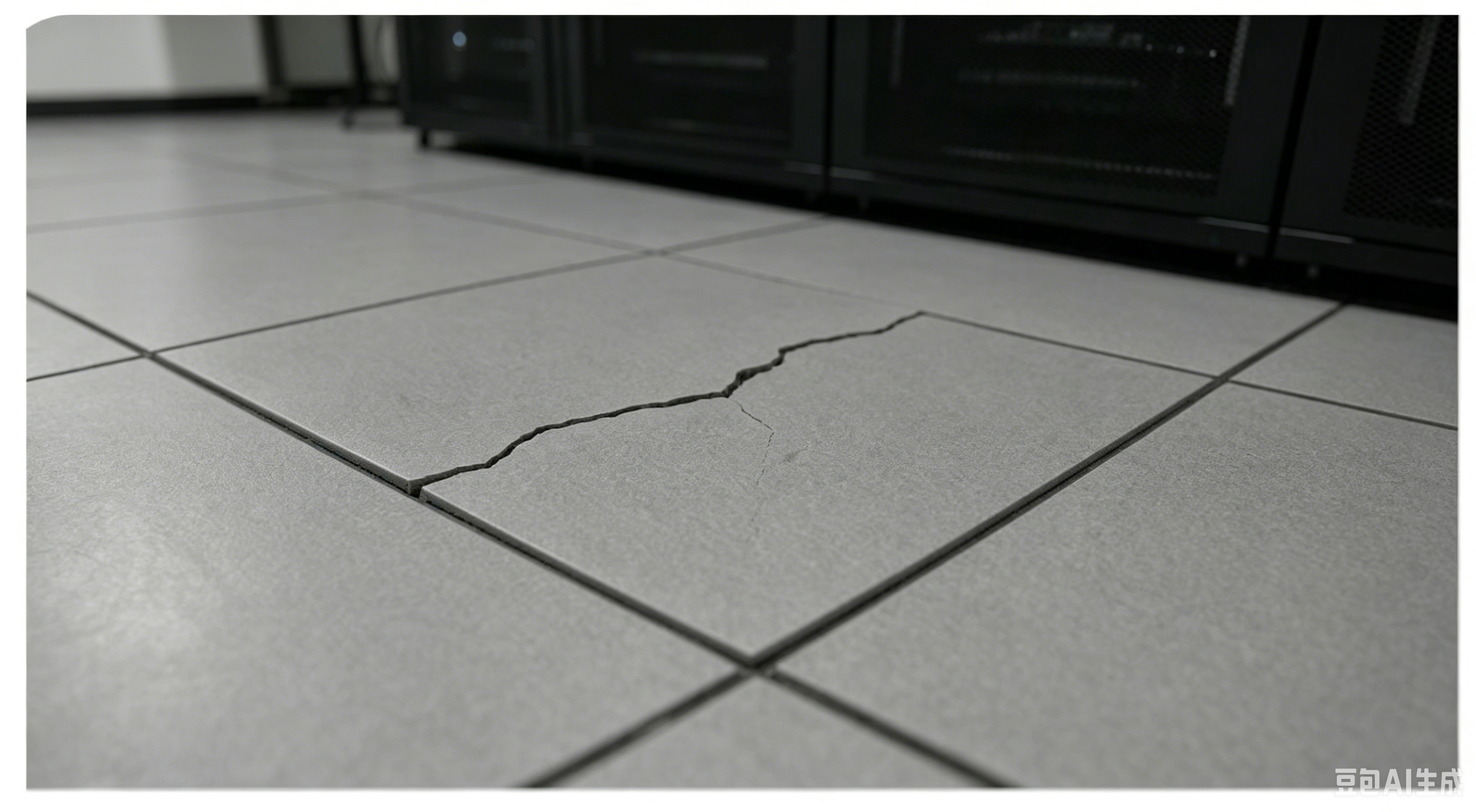floor_defect: (405, 402, 668, 491), (765, 299, 932, 396), (727, 413, 793, 556), (653, 366, 804, 406)
